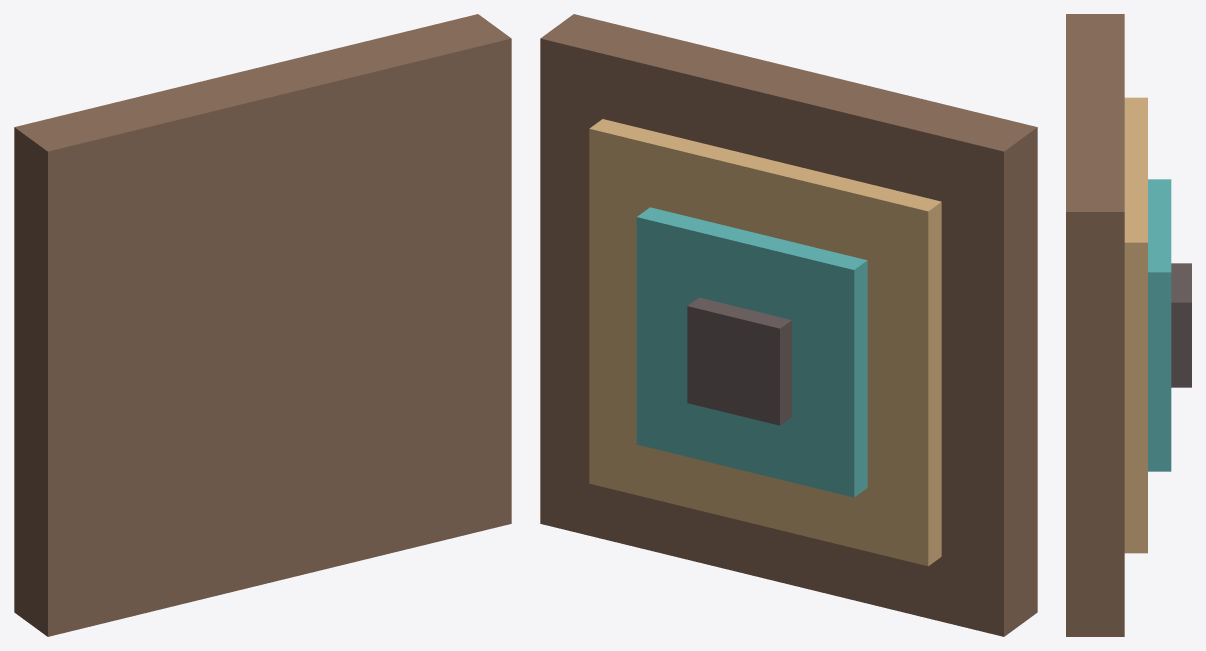
File: high-wall-medallion.glb
The picture shows the model from 3 angles, left to right: view 1: azimuth 30°, elevation 25°; view 2: azimuth 150°, elevation 25°; view 3: azimuth 270°, elevation 25°; orthographic projection. The views are drawn at different scales.
Visible parts, largest first — view 1: world; view 2: world; view 3: world.
Part boxes in pixels (left/top/right/bottom): world: left=14, top=14, right=511, bottom=636; world: left=540, top=14, right=1037, bottom=636; world: left=1066, top=14, right=1191, bottom=636.
Size of the model in its own units: 1.6 by 1.6 by 0.43.
